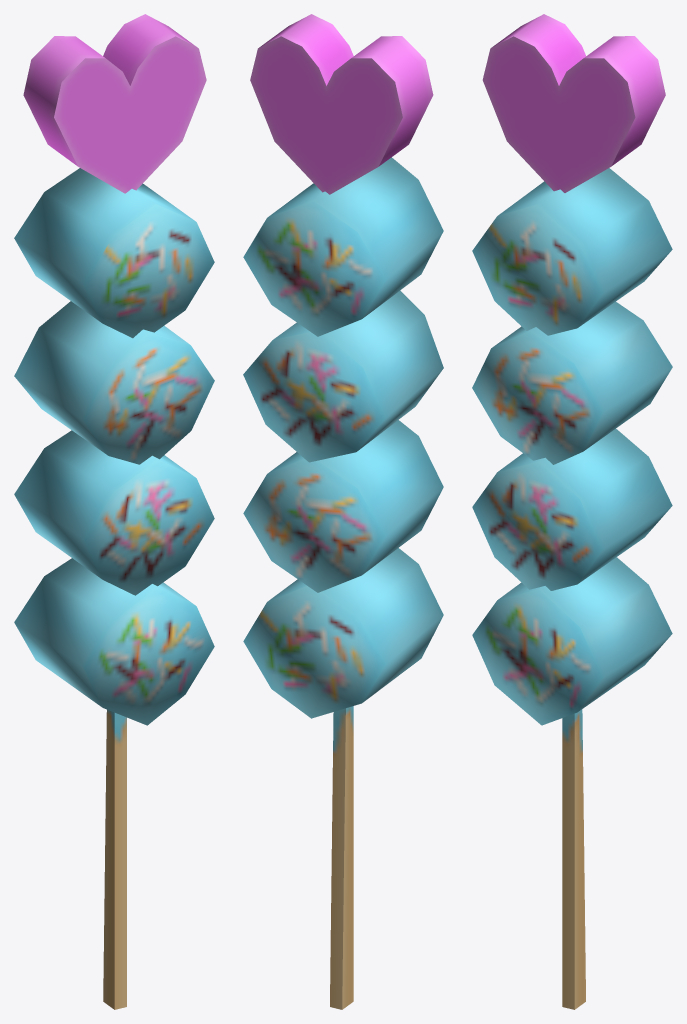
File: jsf_ChocolateBanana_b05_c03.fbx
3 views of the same model, side by side, from view 1: azimuth 30°, elevation 25°; view 2: azimuth 150°, elevation 25°; view 3: azimuth 330°, elevation 25° (orthographic).
Parts seen in each view (by area): view 1: jsf_ChocolateBanana_b05_c03; view 2: jsf_ChocolateBanana_b05_c03; view 3: jsf_ChocolateBanana_b05_c03.
Part boxes in pixels (<box>): jsf_ChocolateBanana_b05_c03: <box>14,14,214,1009</box>; jsf_ChocolateBanana_b05_c03: <box>243,14,443,1009</box>; jsf_ChocolateBanana_b05_c03: <box>472,14,672,1009</box>.
Bounding box in the file's own units: 4.34 × 26.28 × 3.41.
